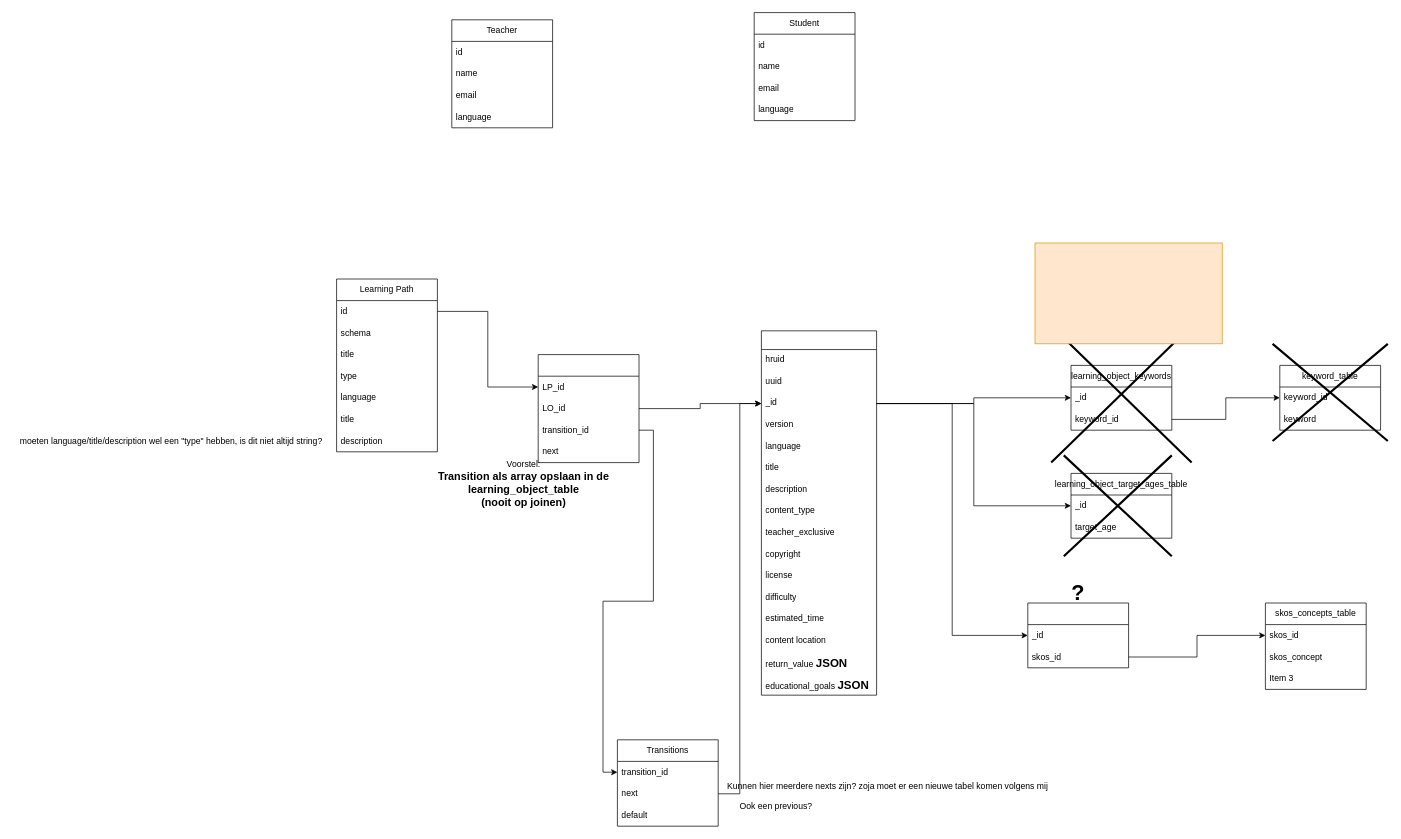
This 1401x839 diagram has some shape labels left out. Here are the shapes that lost their labels. From the top down, the box of each, then its label:
(1034, 242, 1222, 344): Vervangen door PostgreSQL array datatype
(537, 354, 639, 463): learning_path_learning_object_table
(761, 330, 877, 695): Learning Object
(1027, 602, 1129, 668): learning_object_skos_concepts_table
